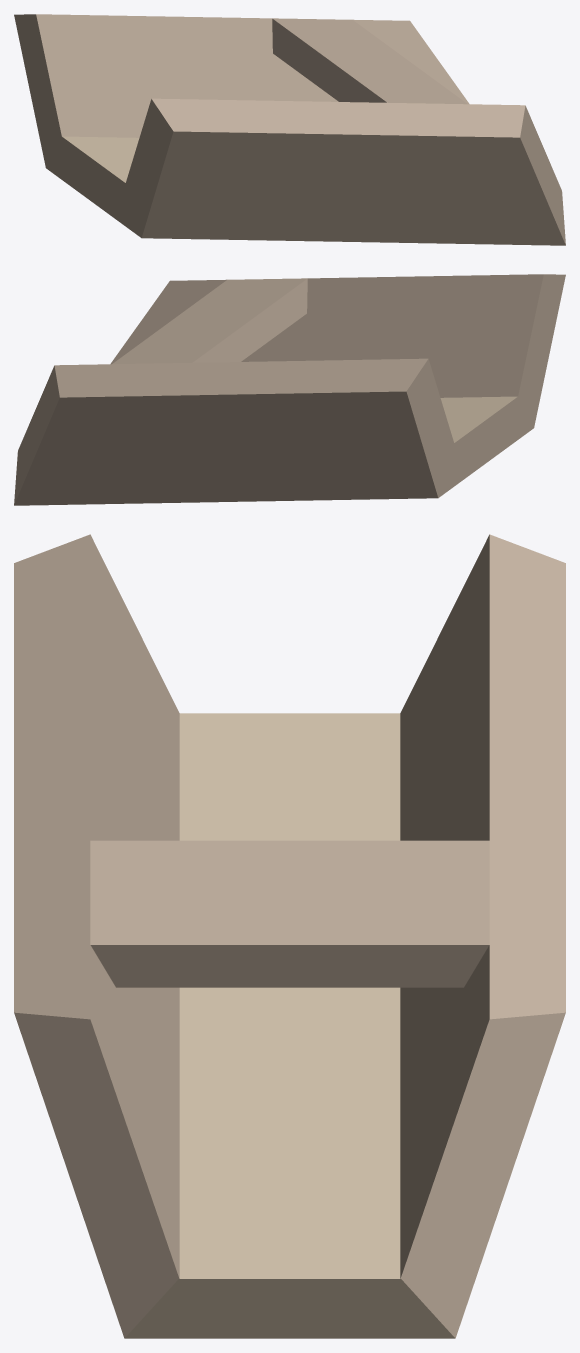
The model's file is Waterwheel_Flume_End.glb.
3 views of the same model, one above another, from view 1: azimuth 30°, elevation 25°; view 2: azimuth 150°, elevation 25°; view 3: azimuth 270°, elevation 25° (orthographic). The views are drawn at different scales.
Visible parts, largest first — view 1: flume_end; view 2: flume_end; view 3: flume_end.
Boxes of the visible parts, x1,y1,x2,y2 form: flume_end: (14, 14, 565, 245); flume_end: (14, 274, 565, 505); flume_end: (14, 534, 565, 1338).
Bounding box in the file's own units: 0.7895 × 0.4458 × 0.5.
